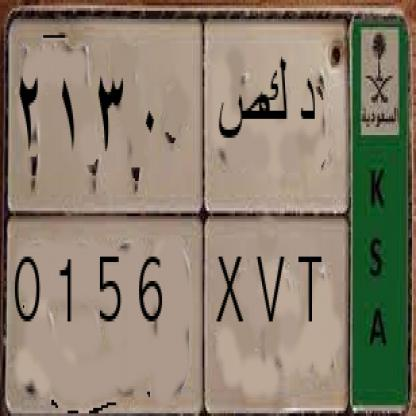english: (7, 220, 358, 411)
